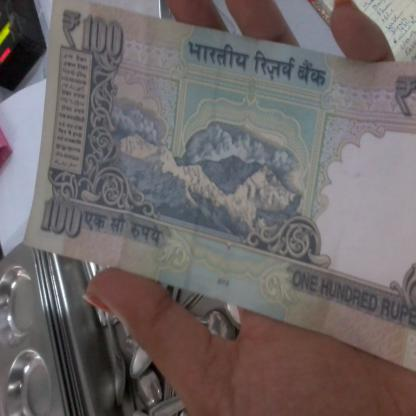Old100Back: (23, 0, 416, 372)
